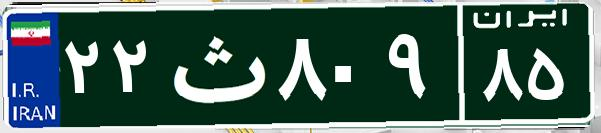0: (330, 28, 385, 110)
2: (57, 26, 110, 107), (110, 28, 158, 105)
5: (525, 38, 570, 115)
8: (273, 28, 330, 110), (475, 38, 525, 113)
9: (385, 28, 445, 110)
ث: (158, 15, 273, 115)
